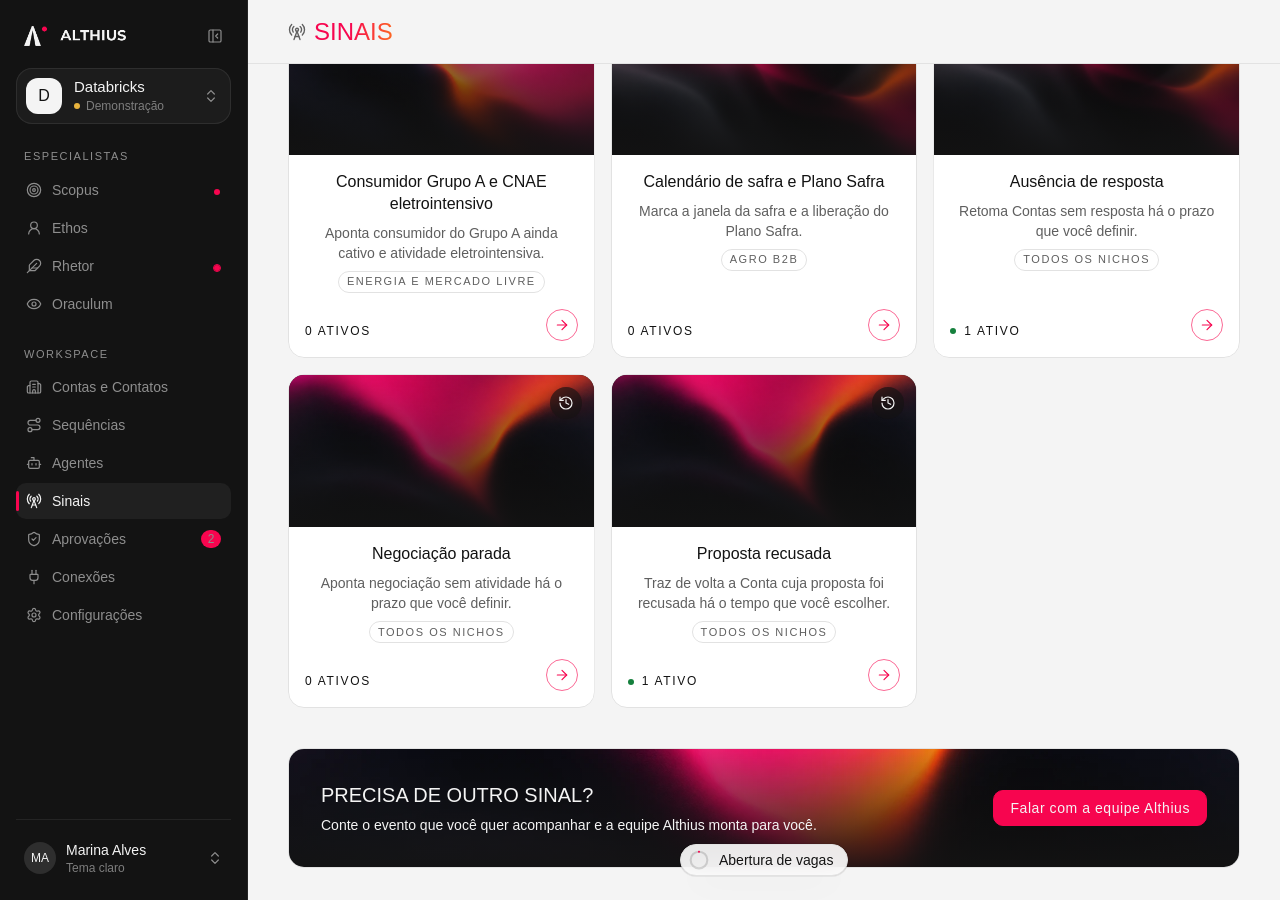
Test: Pedido de Sinal à equipe Althius › o catálogo oferece Falar com a equipe Althius e não o construtor antigo
(page scrolled)
Click the link "Falar com a equipe Althius".
click(1100, 808)  # box [994,790,1207,826]
(page scrolled)
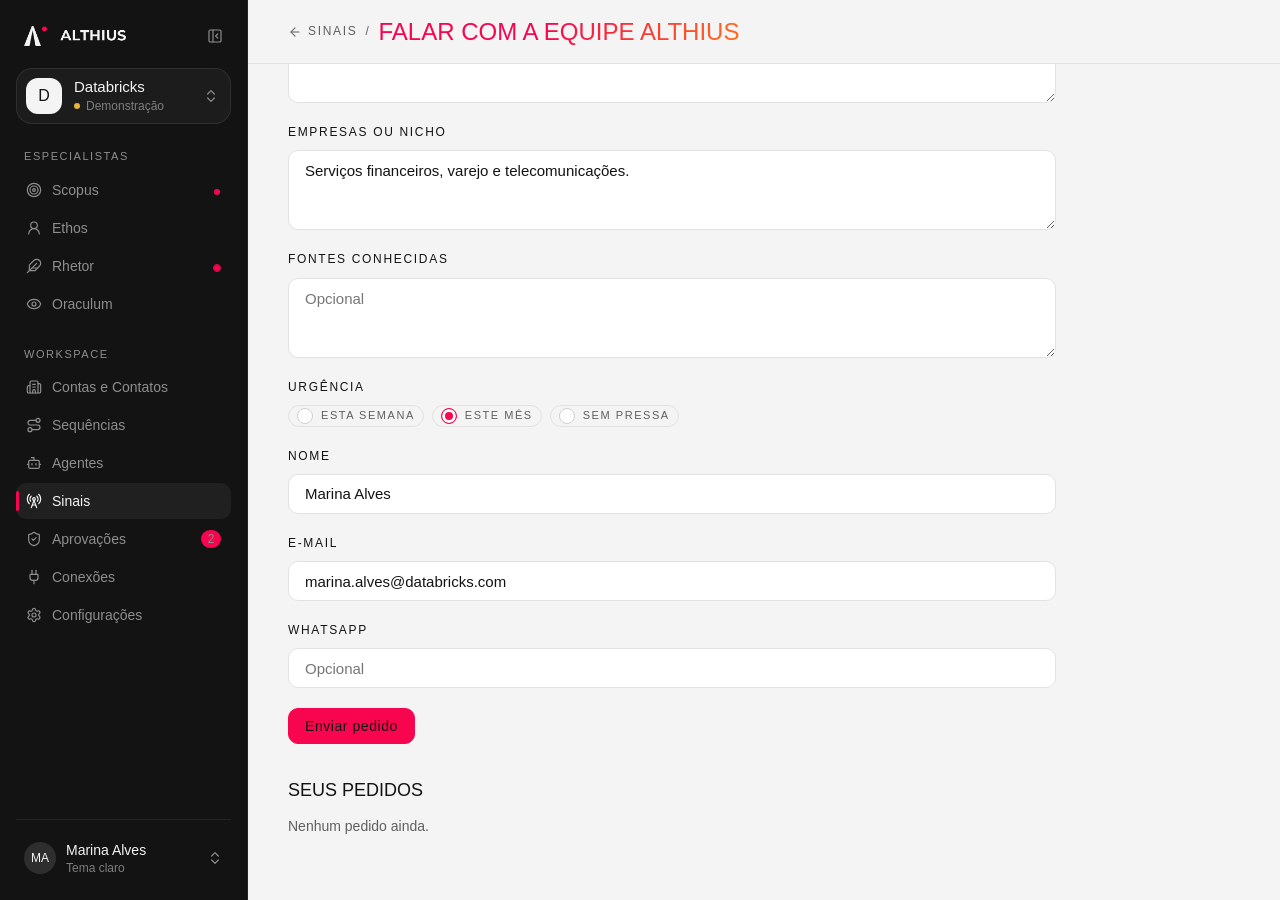
Check: the heading "Falar com a equipe Althius" is shown, box [378,16,740,48]
Check: the text box labelled "Evento" is shown, box [288,7,1056,103]
Check: the element "Urgência" is shown, box [288,380,679,427]
